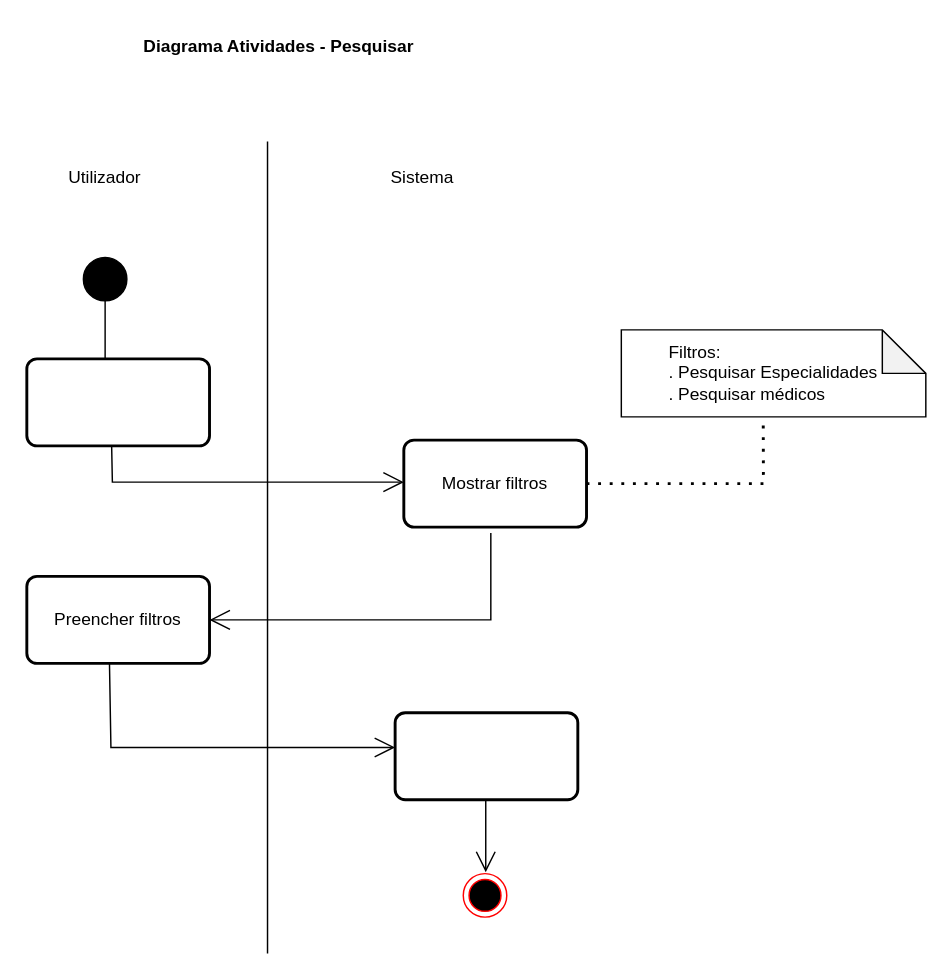
The diagram is 951 pixels wide and 980 high, and some of its shapes have lost their labels. Each missing label, with the box of its shape:
Escolher opção Pesquisar: (25, 357, 210, 447)
Mostrar detalhes dos filtros: (393, 710, 579, 800)
